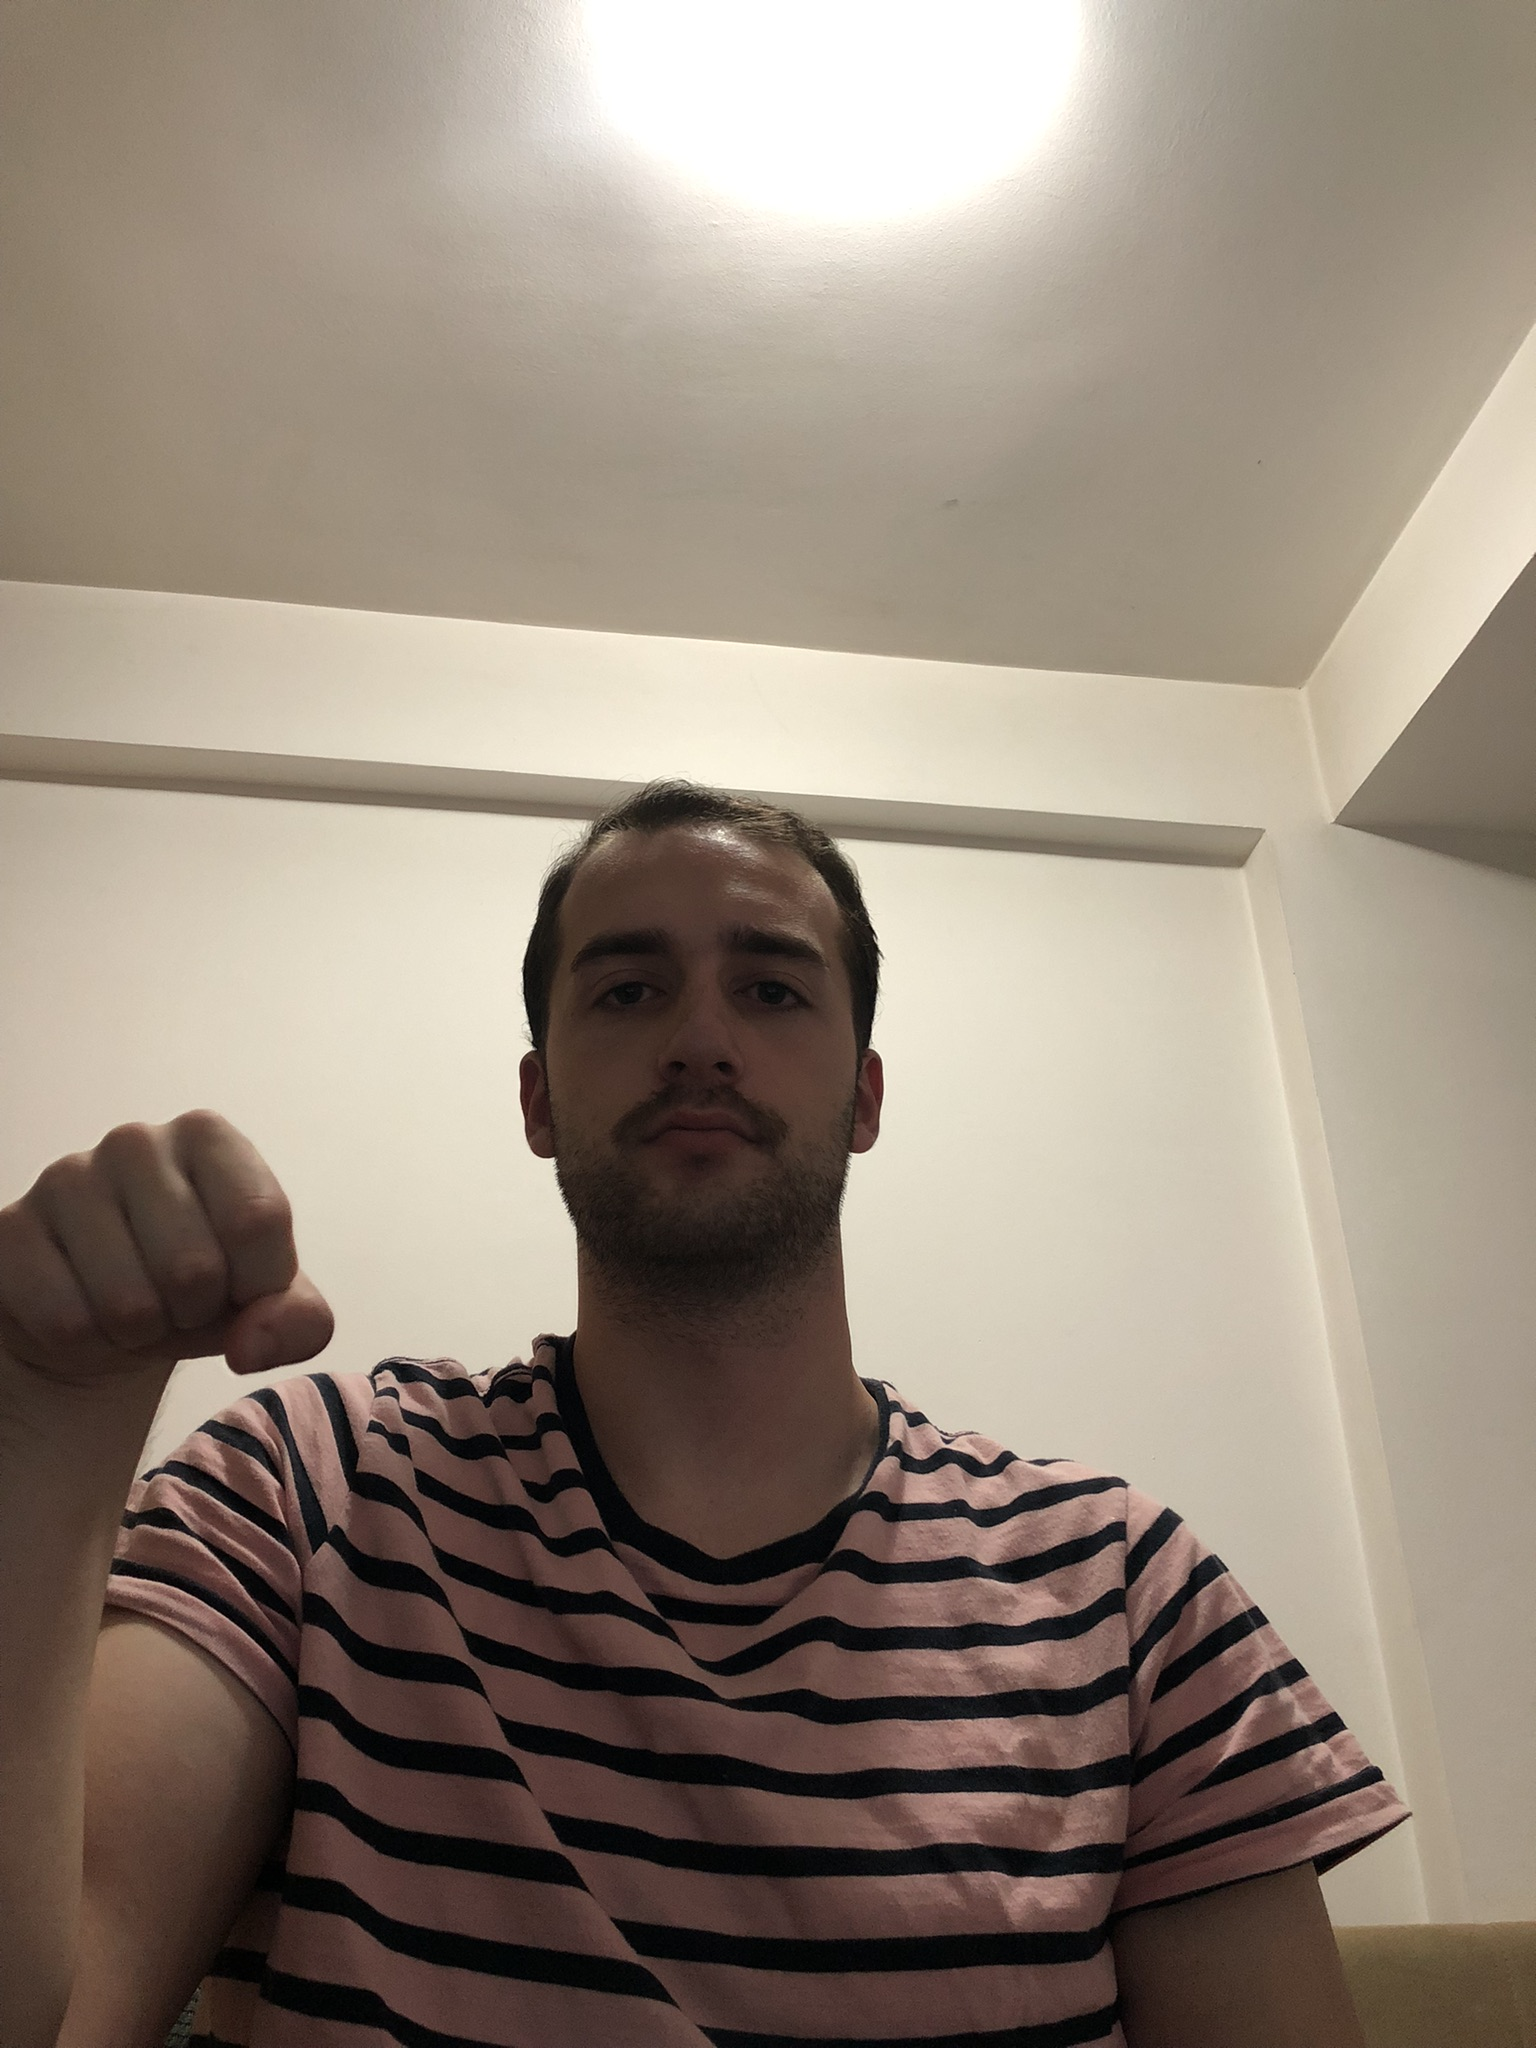Yes: (10, 1109, 339, 1408)
